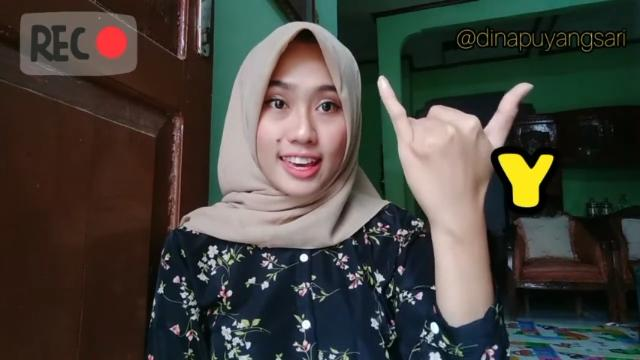Y: (373, 73, 534, 217)
